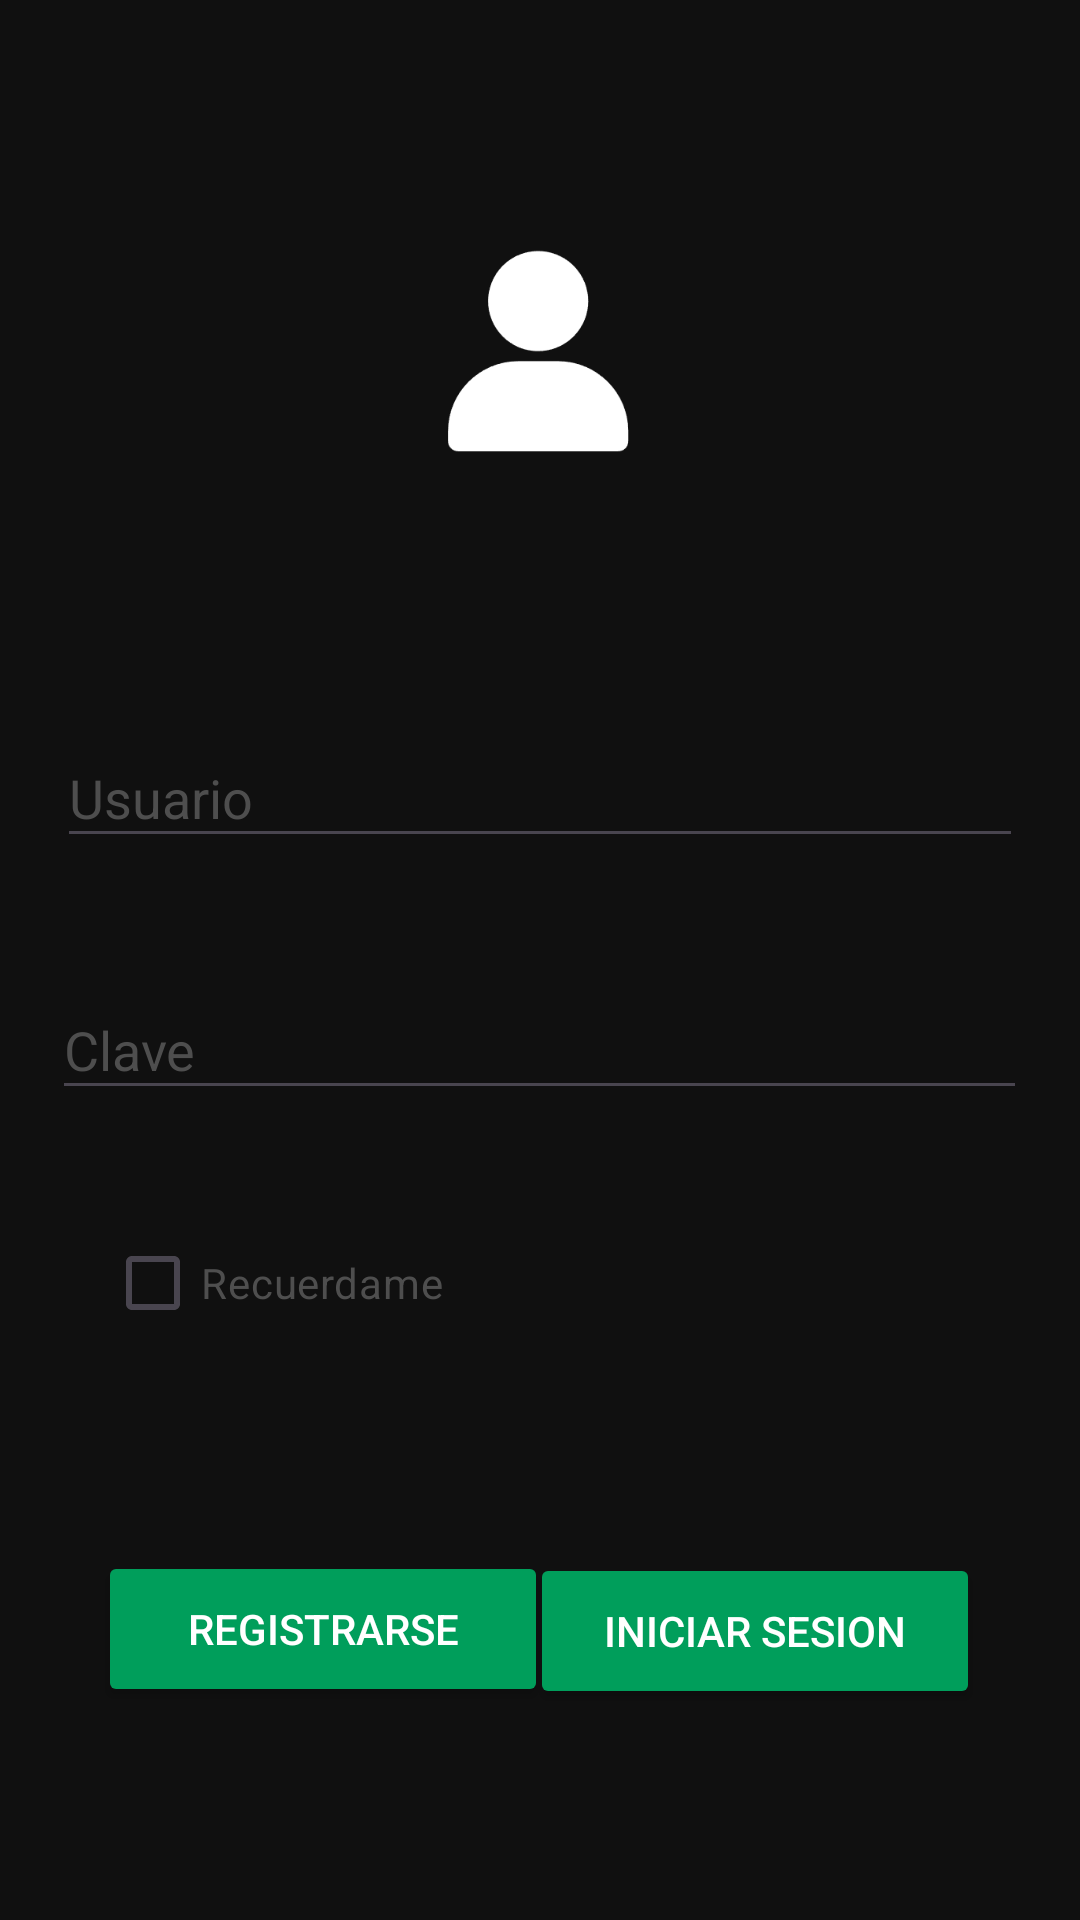

Named icons in this screenshot (1080*1920) and their centers, point (x, y):
user: point (538, 351)
